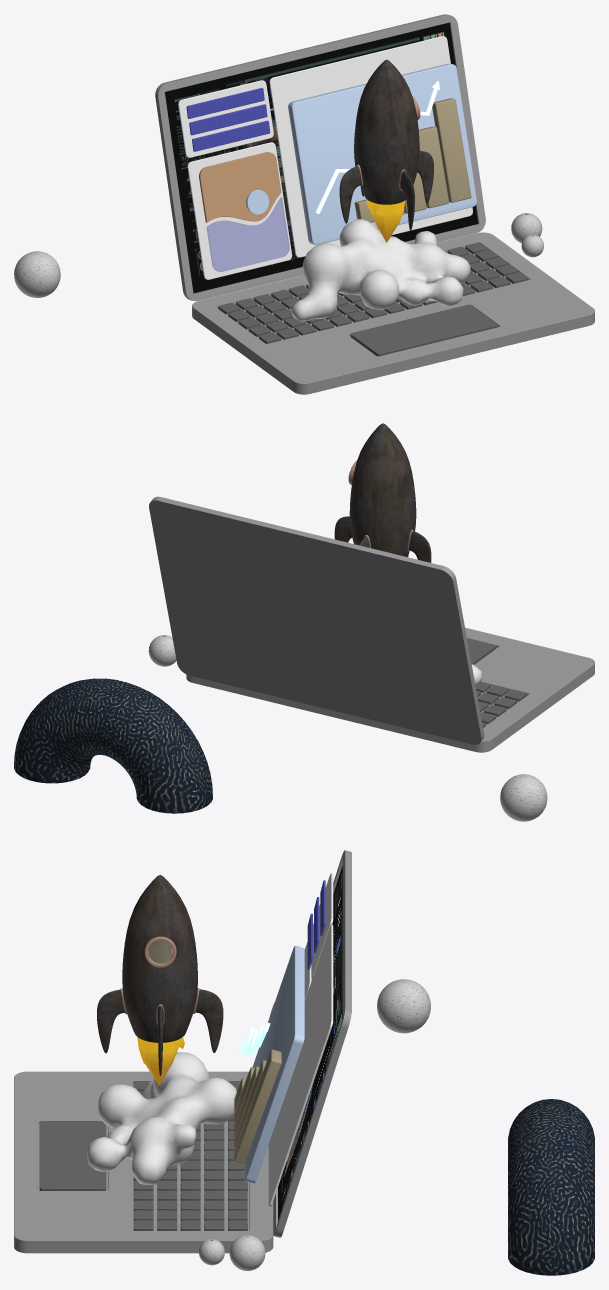
File: laptop_and_rocket-transformed.glb
The picture shows the model from 3 angles, top to bottom: view 1: azimuth 30°, elevation 25°; view 2: azimuth 150°, elevation 25°; view 3: azimuth 270°, elevation 25°; orthographic projection. The views are drawn at different scales.
Visible parts, largest first — view 1: Laptop_Baked, laptop_frames, laptop_frameright, smoke, rocket, laptop_image3d, diagram, laptop_frameleft_text, spheres; view 2: Laptop_Baked, Torus, rocket, spheres; view 3: Laptop_Baked, Torus, rocket, smoke, laptop_frames, laptop_frameright, spheres, diagram, laptop_frameleft_text.
Boxes of the visible parts, <box> form: Laptop_Baked: <box>155,14,594,394</box>; laptop_frames: <box>178,36,472,279</box>; laptop_frameright: <box>288,63,476,244</box>; smoke: <box>292,219,470,321</box>; rocket: <box>339,59,433,242</box>; laptop_image3d: <box>199,152,289,271</box>; diagram: <box>354,98,471,222</box>; laptop_frameleft_text: <box>186,88,270,151</box>; spheres: <box>14,213,543,297</box>; Laptop_Baked: <box>149,496,594,752</box>; Torus: <box>14,678,212,813</box>; rocket: <box>334,423,431,562</box>; spheres: <box>148,635,547,821</box>; Laptop_Baked: <box>14,850,351,1253</box>; Torus: <box>508,1099,594,1275</box>; rocket: <box>97,875,223,1085</box>; smoke: <box>87,1052,236,1185</box>; laptop_frames: <box>268,873,333,1206</box>; laptop_frameright: <box>244,945,304,1183</box>; spheres: <box>198,979,430,1270</box>; diagram: <box>234,1049,281,1163</box>; laptop_frameleft_text: <box>307,880,325,969</box>.
Bounding box in the file's own units: 2.58 × 1.38 × 2.47.
16 materials, 6 textured.
